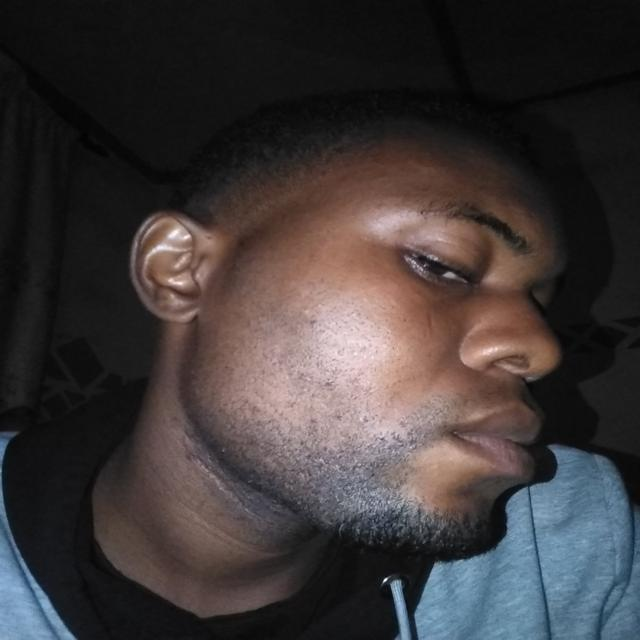pores: (370, 306, 440, 377)
